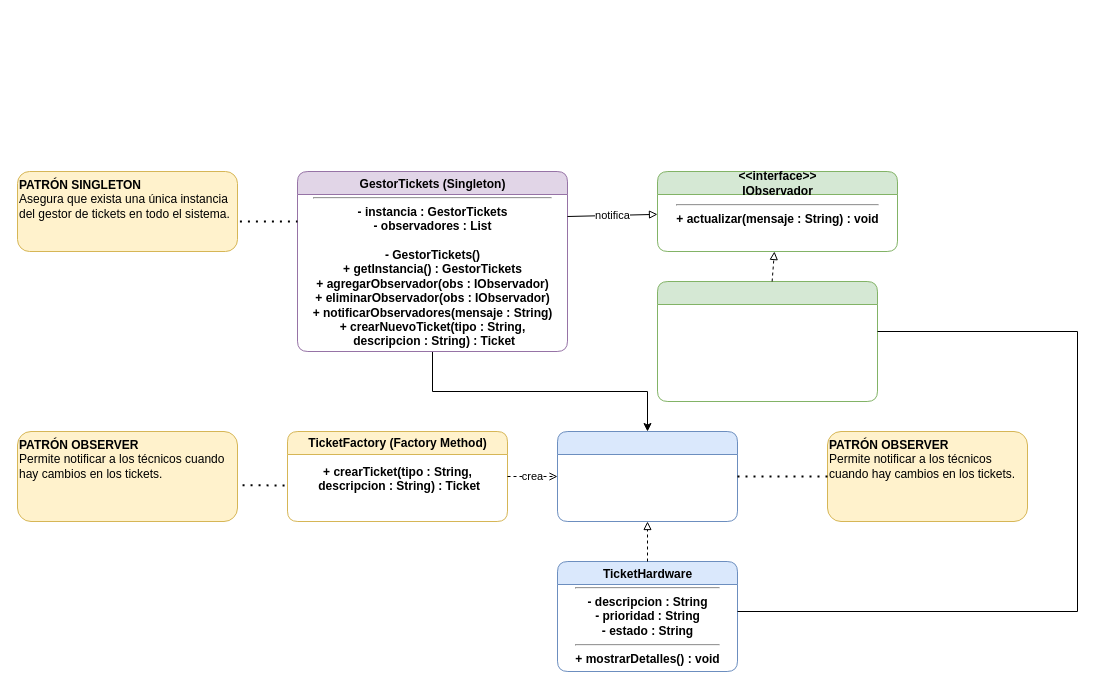
Image size: 1096x689. Some labels were removed from this diagram. Each missing label, with the centre of its shape:
<<interface>> Ticket + mostrarDetalles() : void: pixel 647 476
Tecnico - id : int - nombre : String + actualizar(mensaje : String) : void: pixel 767 341
